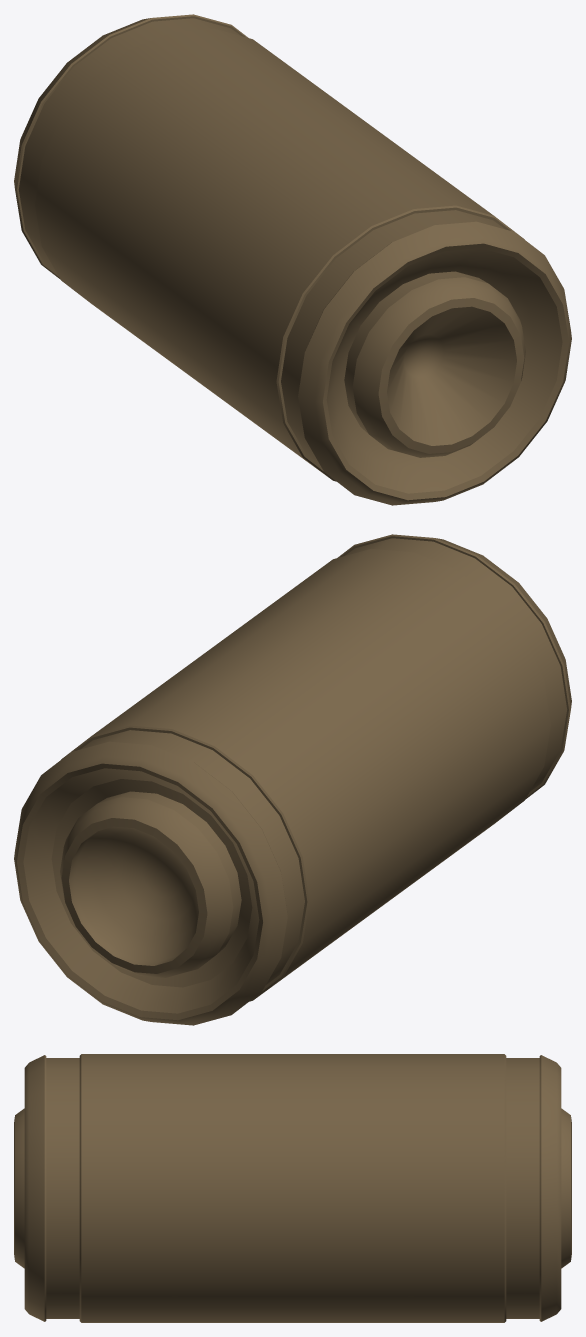
File: Small_Cylinder_Obstacle_Mesh_01.fbx
3 views of the same model, one above another, from view 1: azimuth 30°, elevation 25°; view 2: azimuth 150°, elevation 25°; view 3: azimuth 270°, elevation 25° (orthographic). The views are drawn at different scales.
Parts seen in each view (by area): view 1: Small_Cylinder_Obstacle; view 2: Small_Cylinder_Obstacle; view 3: Small_Cylinder_Obstacle.
Boxes of the visible parts, left/top/right/bottom form: Small_Cylinder_Obstacle: left=14, top=14, right=571, bottom=505; Small_Cylinder_Obstacle: left=14, top=534, right=571, bottom=1025; Small_Cylinder_Obstacle: left=14, top=1054, right=571, bottom=1322.
Bounding box in the file's own units: 16.56 × 16.06 × 33.23.
